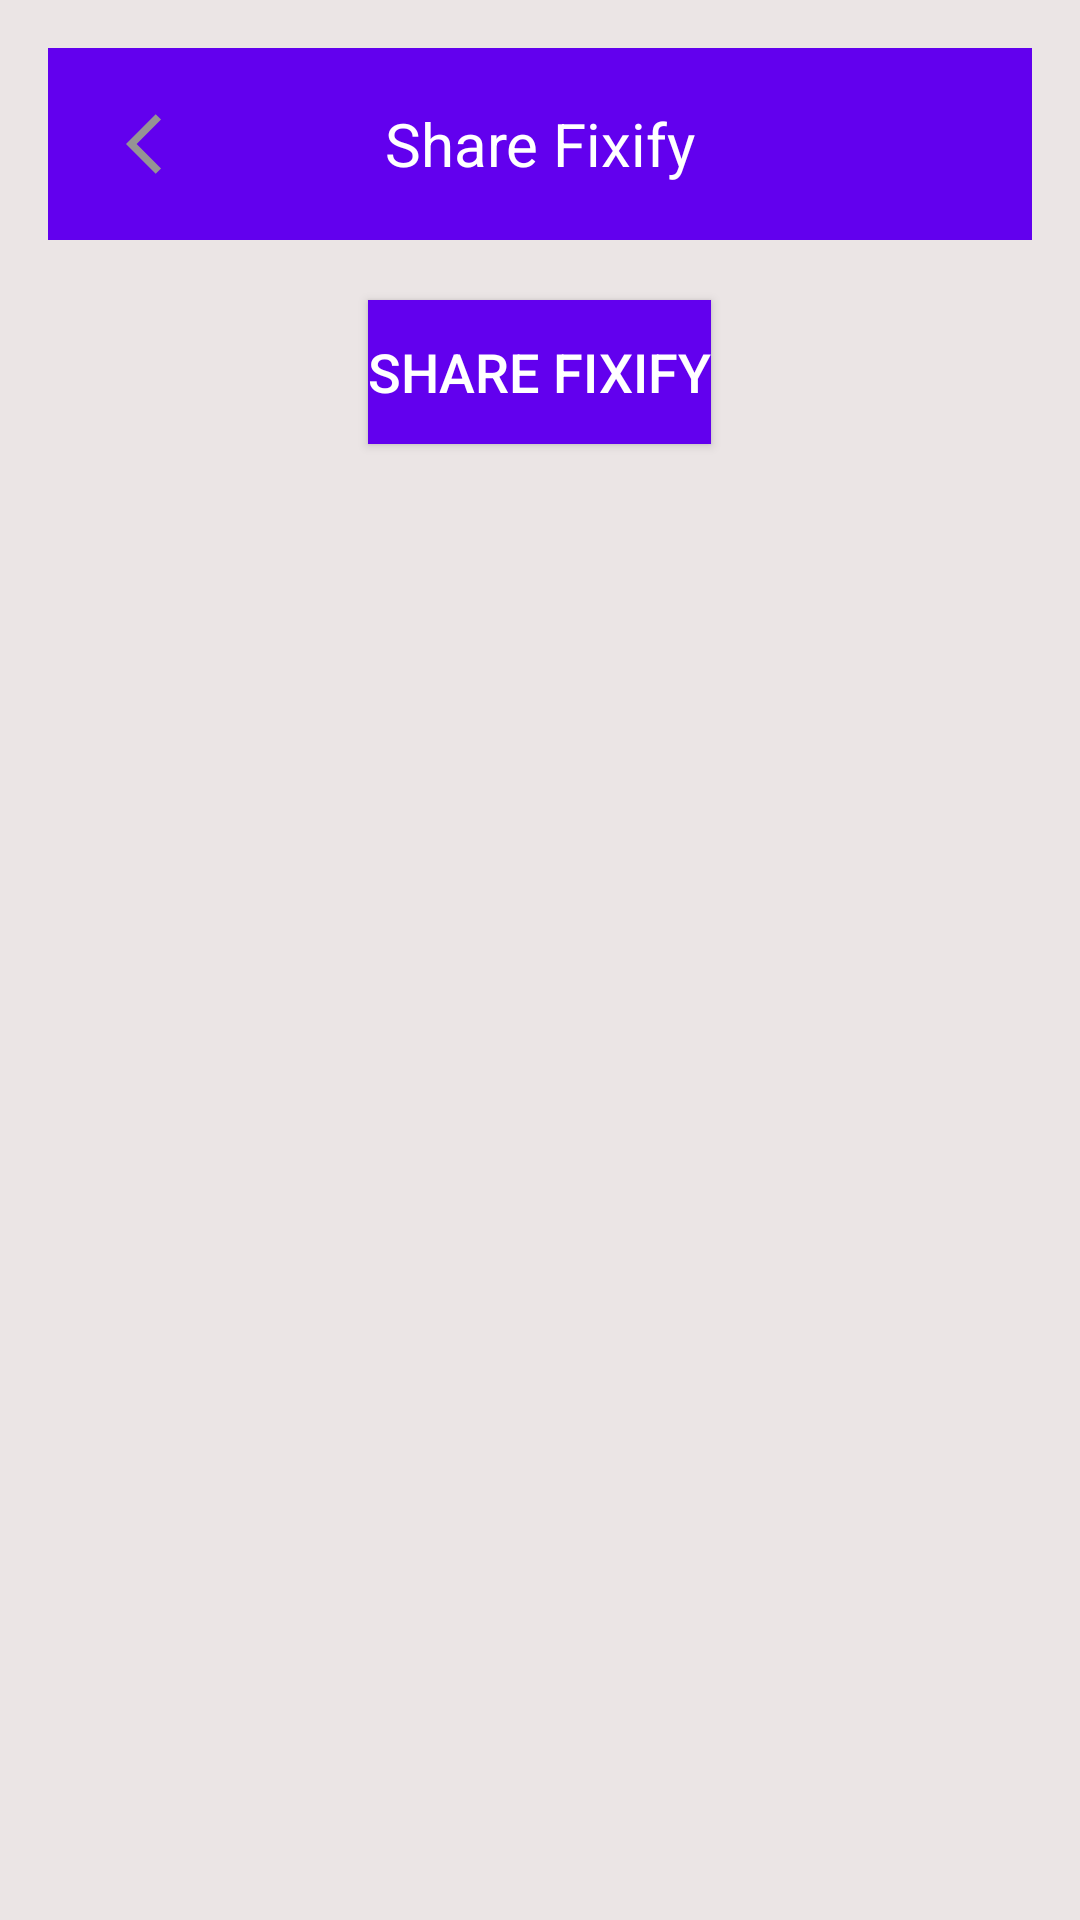

Point at icon controls on the screen. Image size 1080 x 1920, points as (x,y).
Back Arrow: (143,144)
